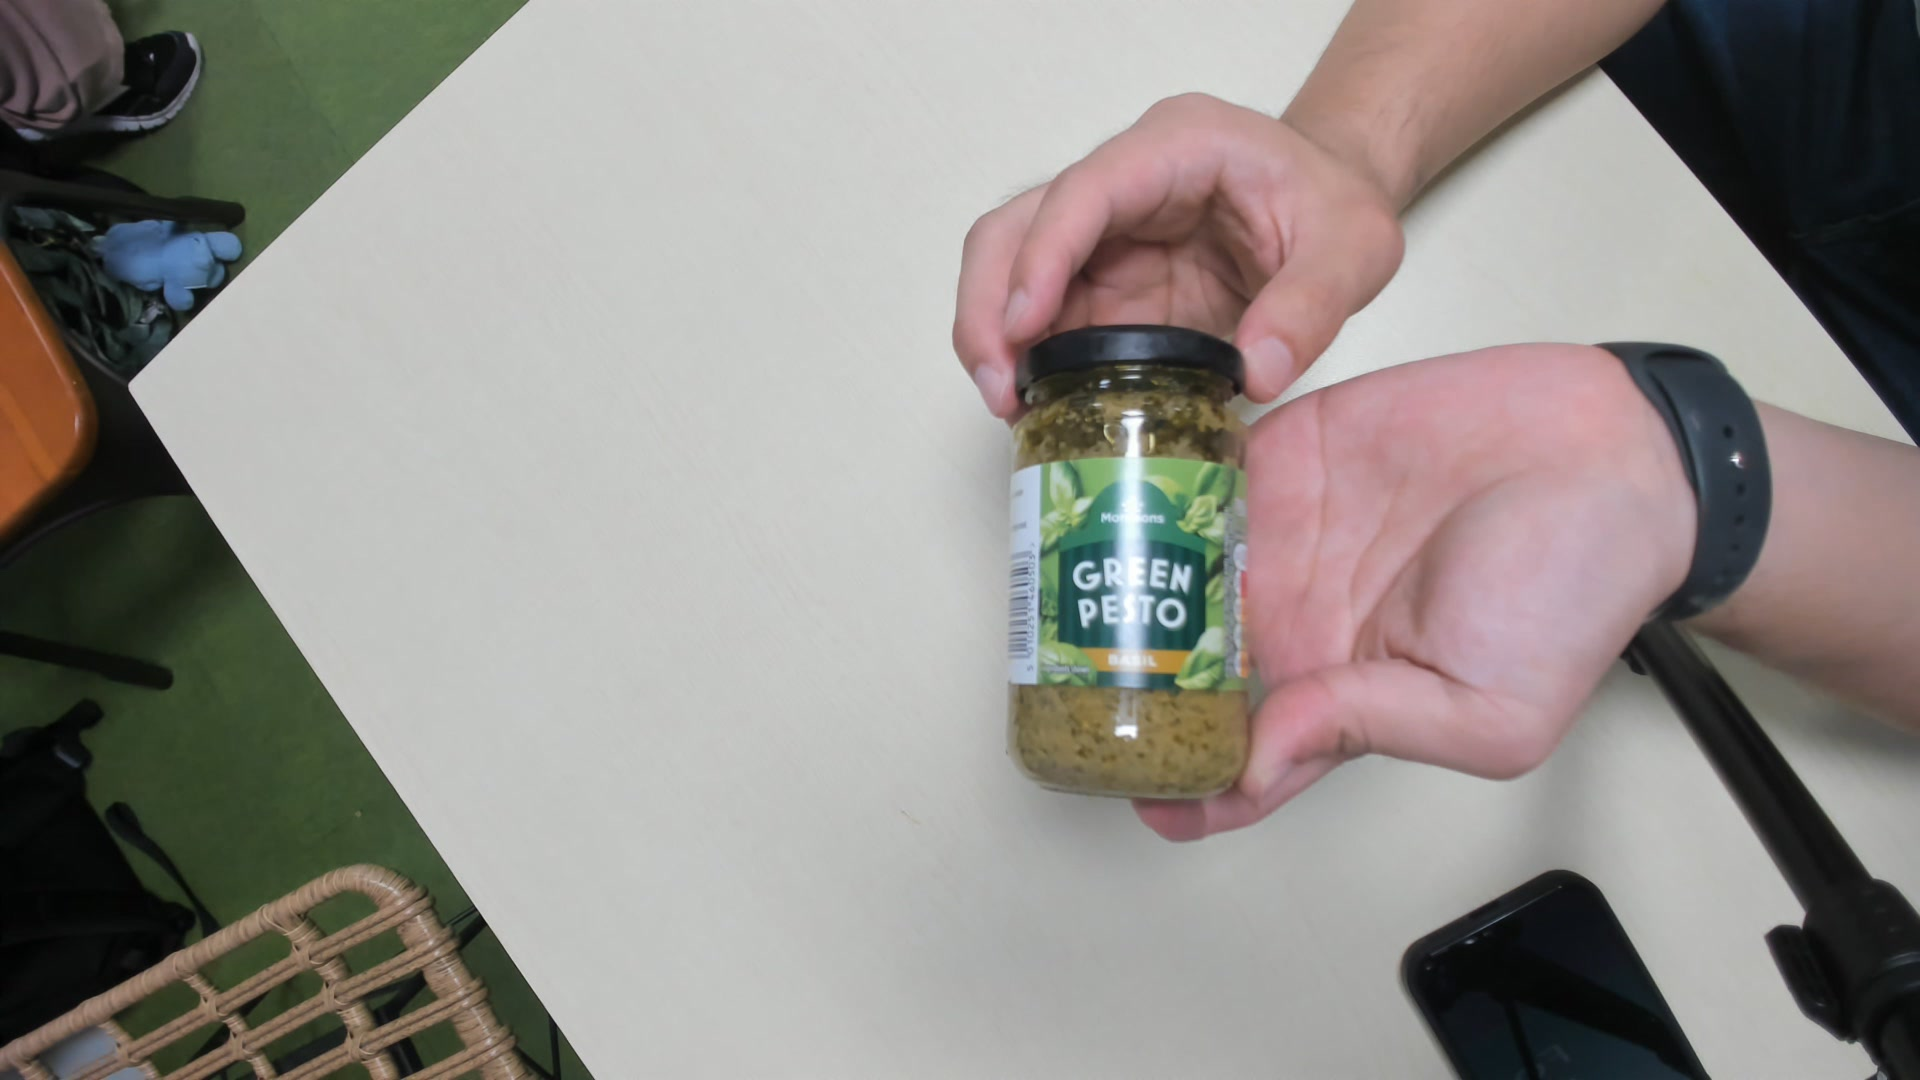OtherSauceDressing_100-199g_NonHalal_NonHealthy: (1006, 326, 1247, 808)
